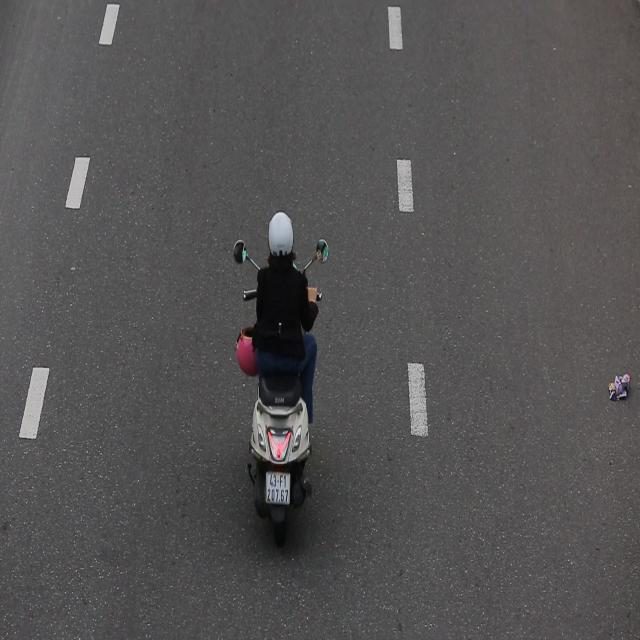motorbike: (234, 201, 331, 548)
